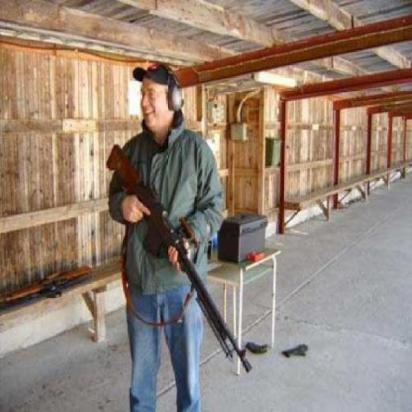Gun: (104, 134, 278, 391)
